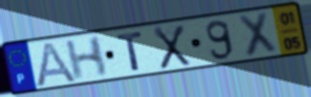9: (204, 19, 234, 61)
A: (33, 40, 79, 89)
H: (63, 33, 110, 83)
T: (115, 30, 145, 73)
X: (235, 9, 280, 59), (151, 23, 193, 71)
